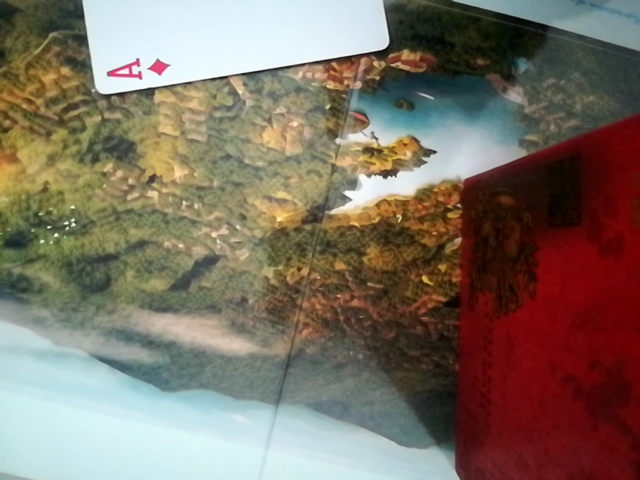fk a: (65, 1, 383, 98)
